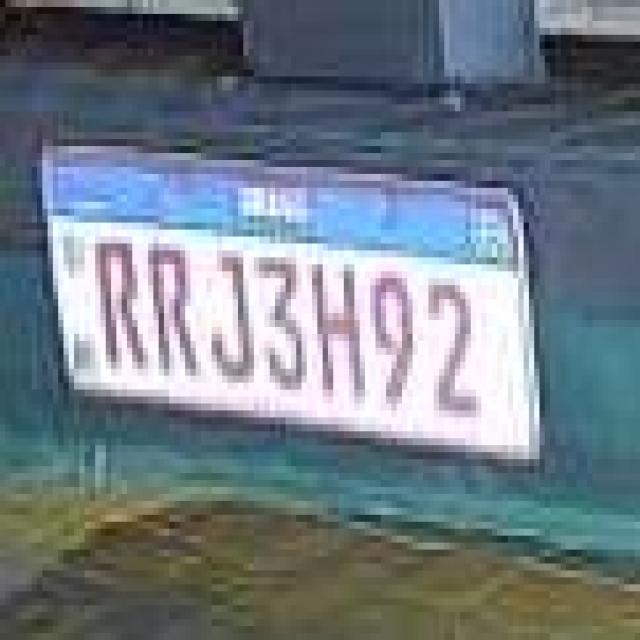3: (257, 246, 310, 398)
9: (368, 268, 420, 410)
H: (308, 246, 368, 408)
J: (200, 238, 256, 392)
R: (91, 228, 151, 380), (142, 235, 197, 387)
